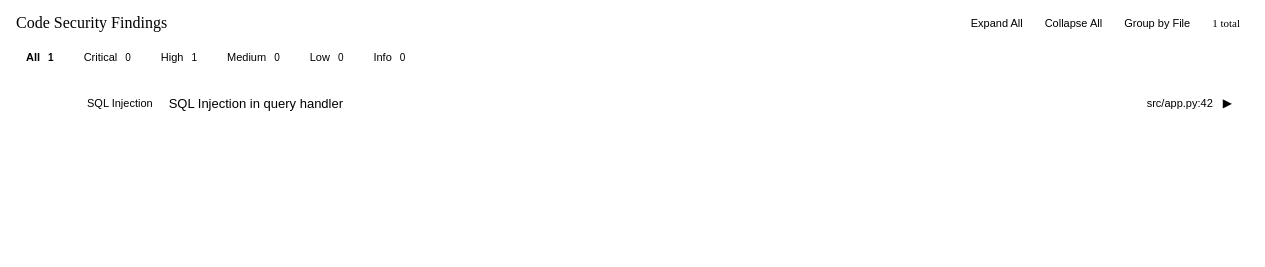
CodeSecurityFindings › expands a finding to show description and code
The width and height of the screenshot is (1265, 267).
// Click to expand
Click the text "SQL Injection in query handler".
click(256, 103)  # box [169,96,343,110]
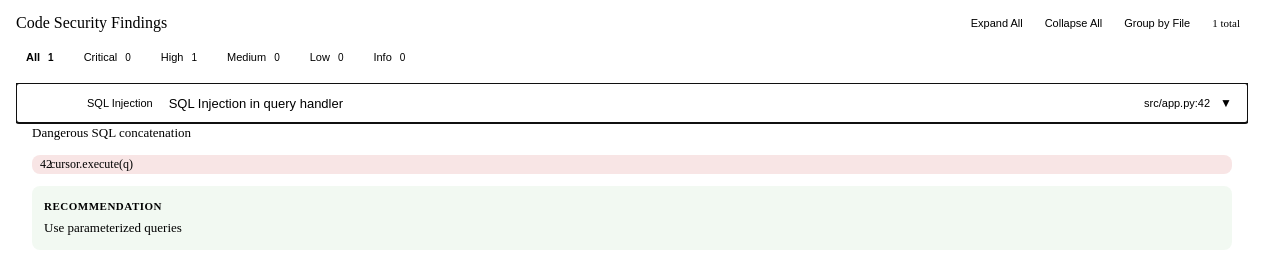
Check: the text "Dangerous SQL concatenation" is shown, box [32,125,191,140]
Check: the text "cursor.execute(q)" is shown, box [50,154,133,174]
